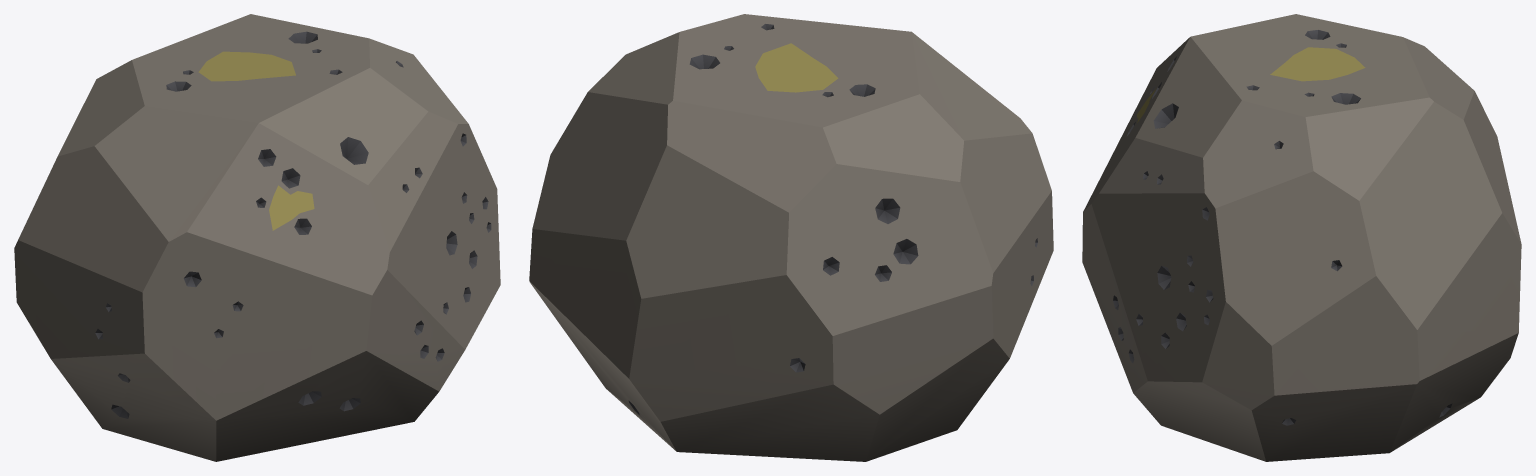
The model's file is basalt.glb.
The picture shows the model from 3 angles, left to right: view 1: azimuth 30°, elevation 25°; view 2: azimuth 150°, elevation 25°; view 3: azimuth 270°, elevation 25°; orthographic projection. The views are drawn at different scales.
Visible parts, largest first — view 1: basalt; view 2: basalt; view 3: basalt.
Boxes of the visible parts, x1,y1,x2,y2 form: basalt: (14,14,500,461); basalt: (529,14,1053,461); basalt: (1082,14,1521,461).
Bounding box in the file's own units: 3.08 × 2.18 × 2.69.
